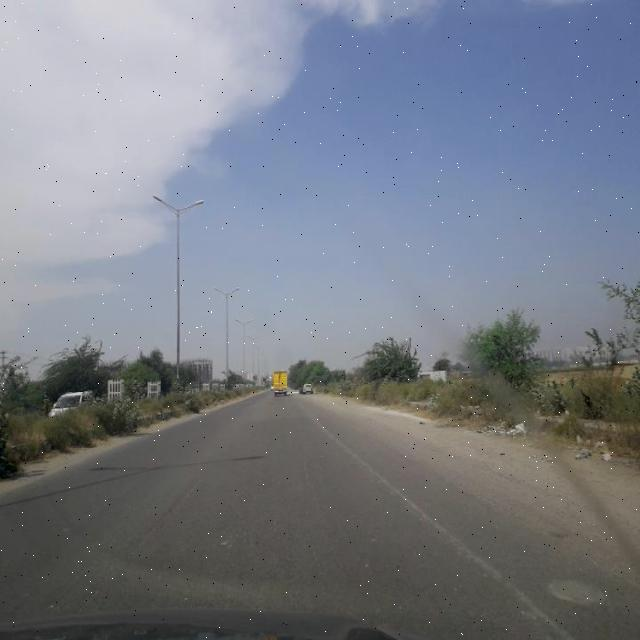D00: (328, 413, 555, 624), (138, 466, 208, 546), (300, 431, 321, 530)
